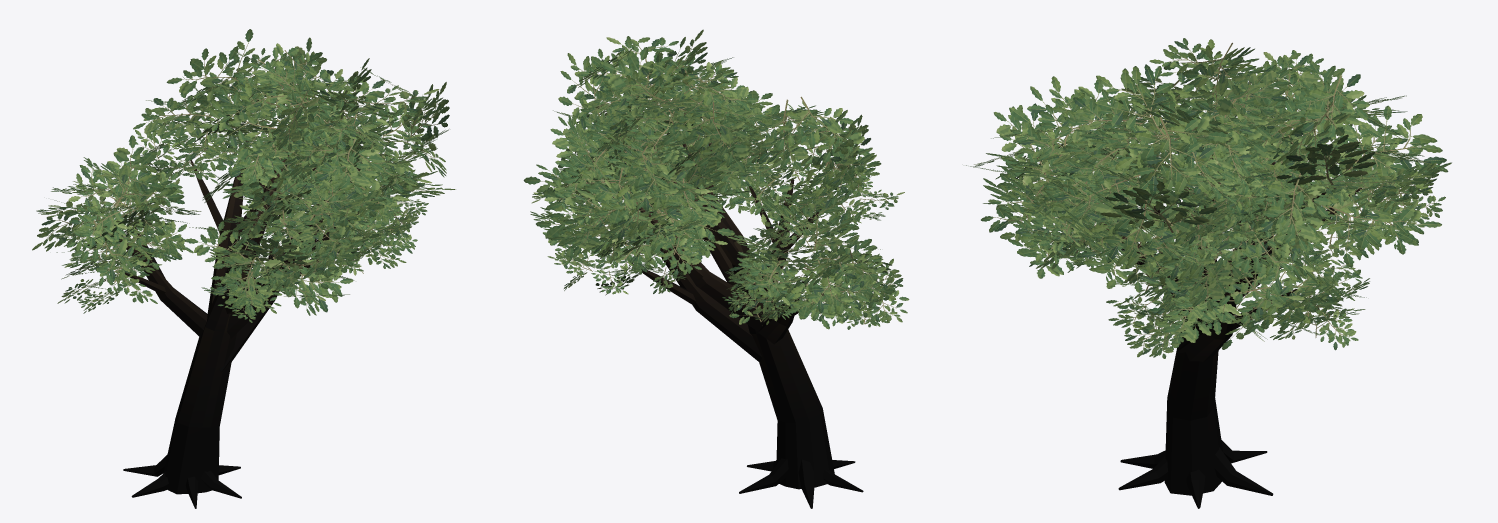
The model's file is Oak_Windlean.fbx.
The picture shows the model from 3 angles, left to right: view 1: azimuth 30°, elevation 25°; view 2: azimuth 150°, elevation 25°; view 3: azimuth 270°, elevation 25°; orthographic projection. The views are drawn at different scales.
Visible parts, largest first — view 1: Oak_Windlean_LeafCards, Oak_Windlean_Bark; view 2: Oak_Windlean_LeafCards, Oak_Windlean_Bark; view 3: Oak_Windlean_LeafCards, Oak_Windlean_Bark.
Boxes of the visible parts, bbox=[...] form: Oak_Windlean_LeafCards: bbox=[32, 29, 455, 322]; Oak_Windlean_Bark: bbox=[119, 141, 362, 508]; Oak_Windlean_LeafCards: bbox=[523, 29, 909, 329]; Oak_Windlean_Bark: bbox=[627, 142, 863, 508]; Oak_Windlean_LeafCards: bbox=[966, 38, 1451, 358]; Oak_Windlean_Bark: bbox=[1100, 154, 1361, 508].
Size of the model in its own units: 7.82 by 7.87 by 7.43.
